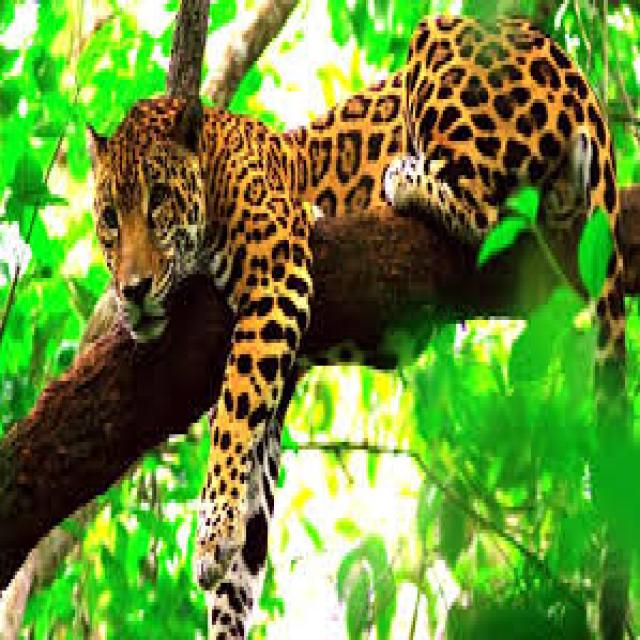Jaguar: (86, 34, 627, 434)
